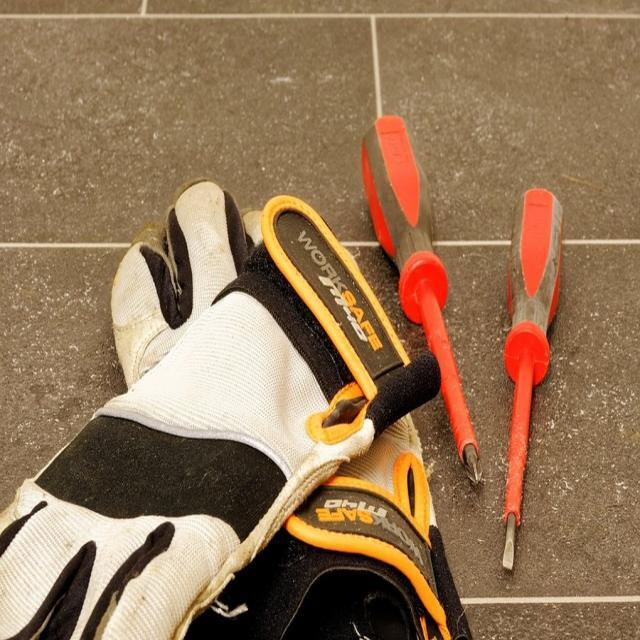screwdriver: (359, 106, 482, 492), (498, 182, 566, 588)
